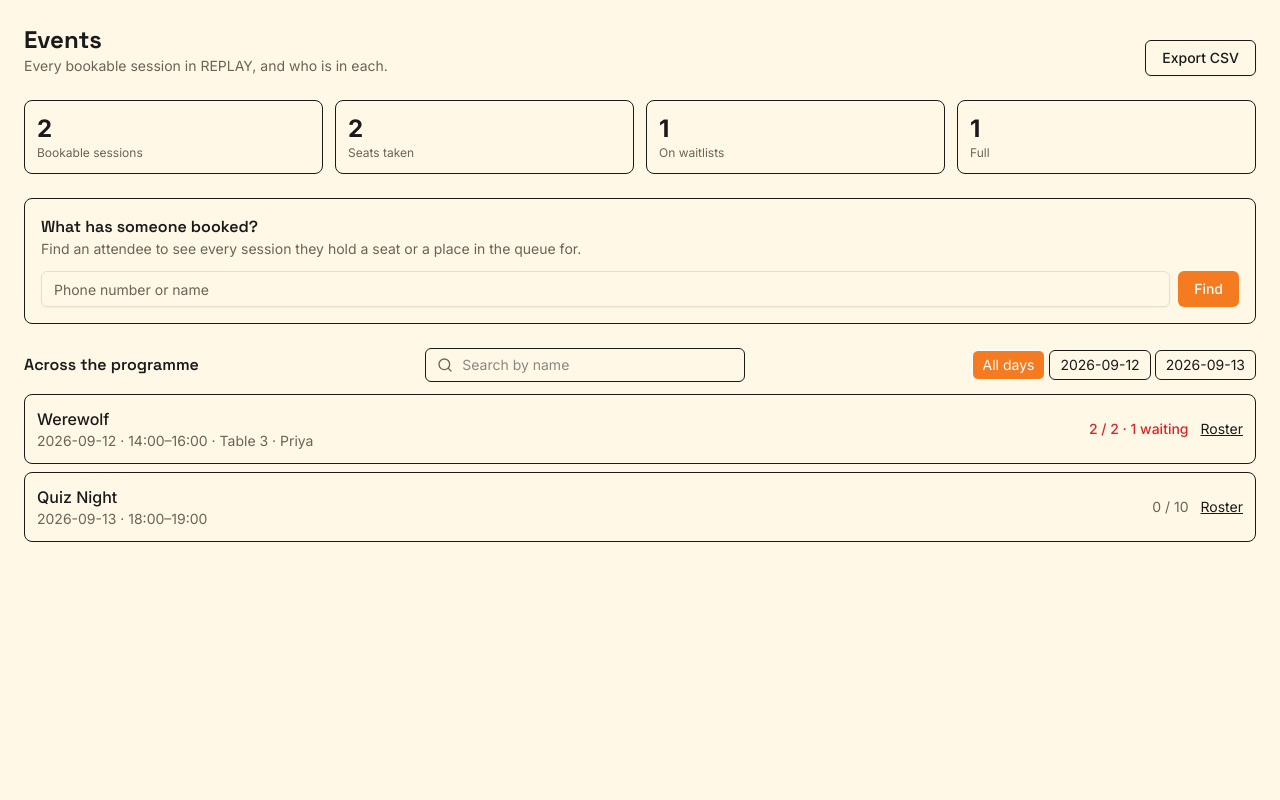
Test: what has this person booked › says plainly when somebody has booked nothing
Expected: the text "Werewolf" is shown, [37,409,109,429]
Type "Nobody" into the field named "Find an attendee".
click(606, 289); type("Nobody")  # box [41,271,1170,307]
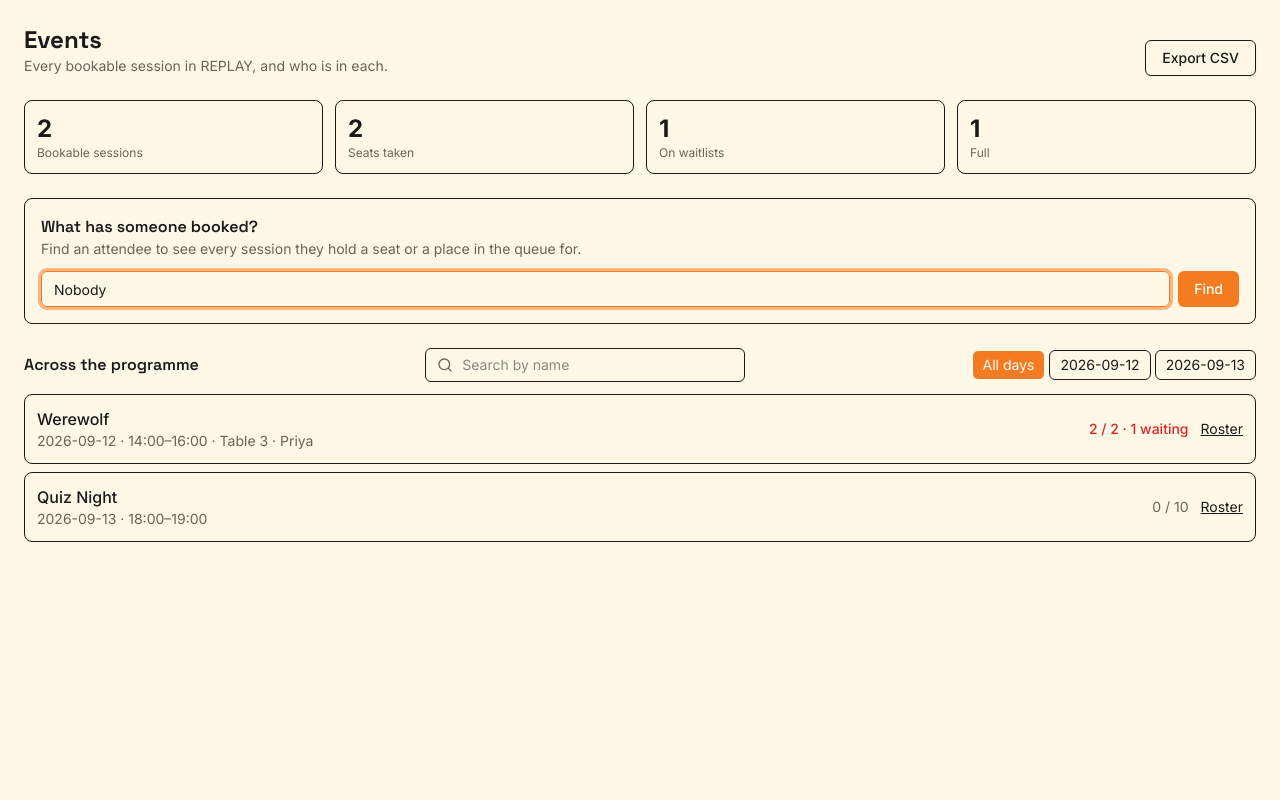
Click the button "Find".
click(1209, 289)  # box [1178,271,1239,307]
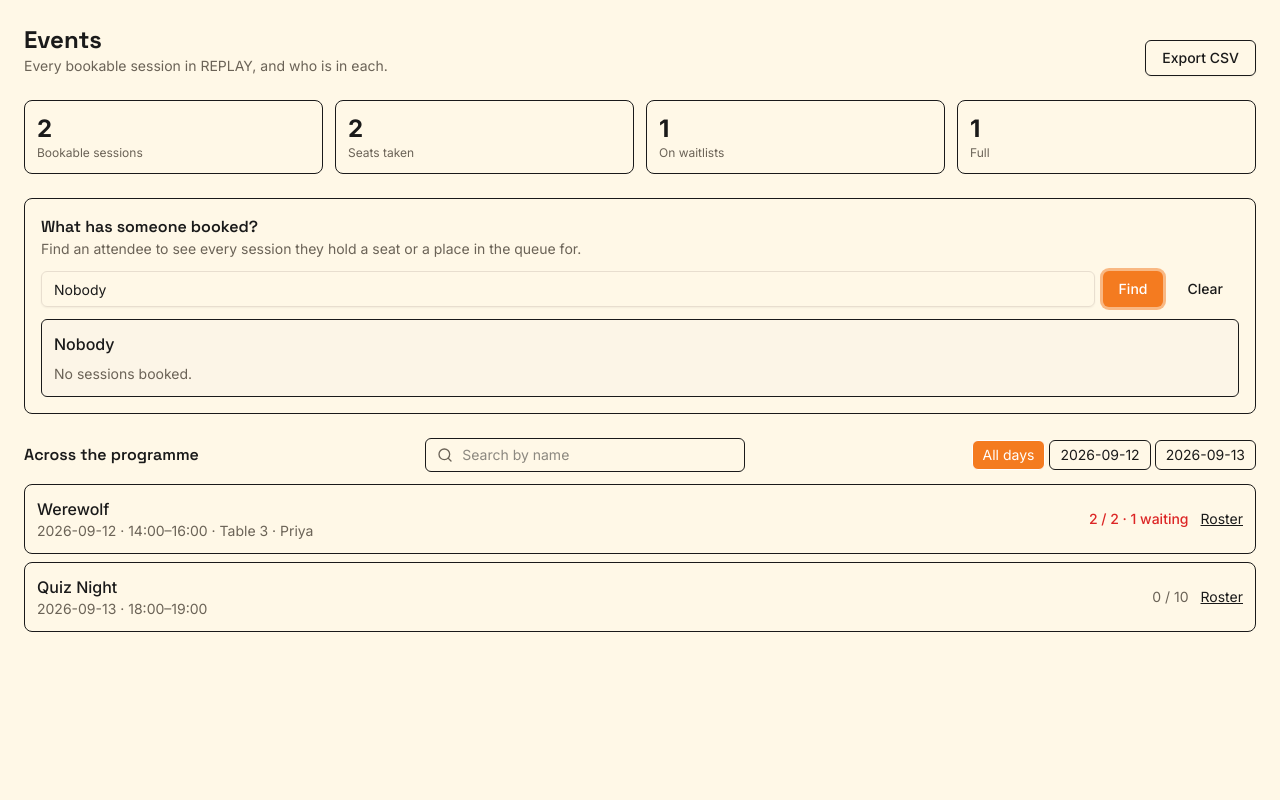
Result: the text "No sessions booked." is shown at [54,365,192,382]
